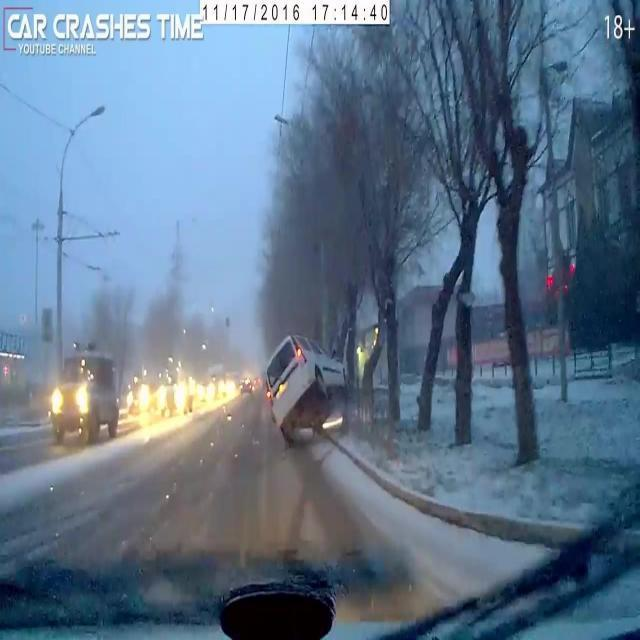normal: (28, 318, 138, 457)
single accident: (208, 290, 403, 465)
